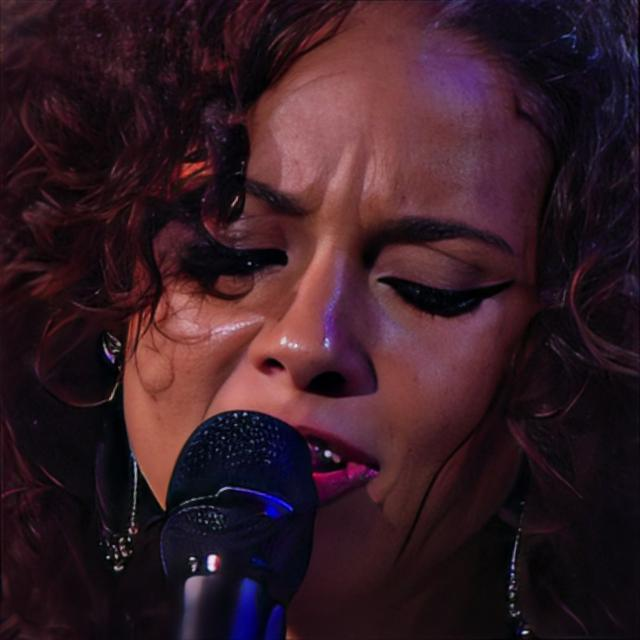sad: (121, 0, 548, 621)
